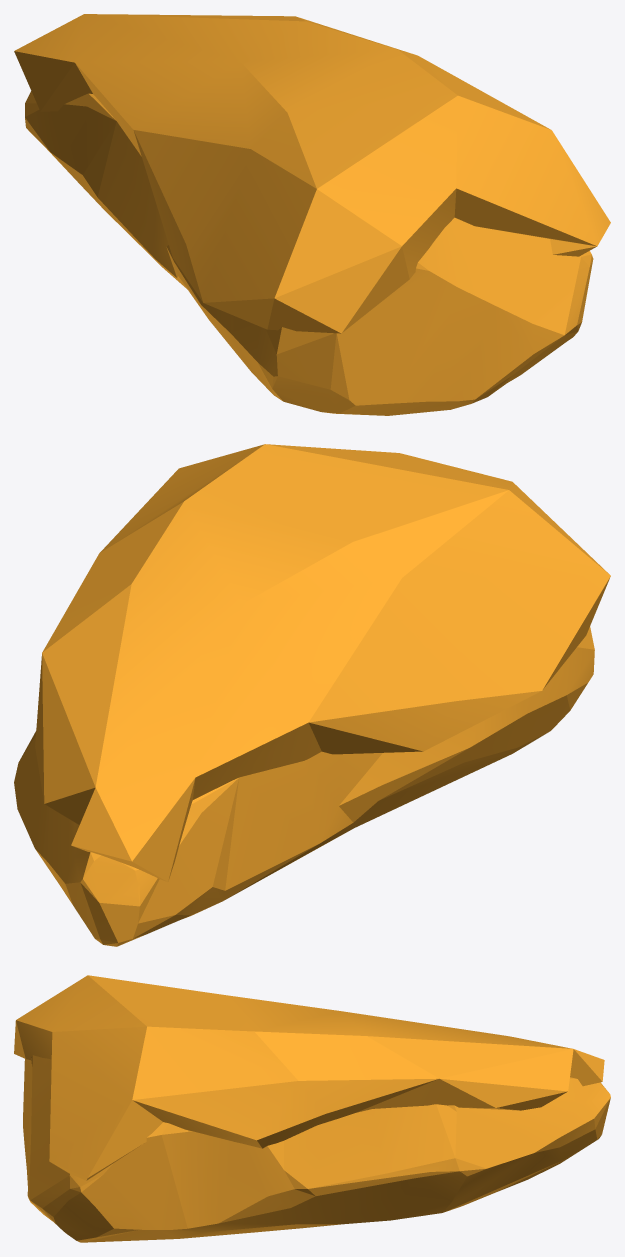
Rendered from SM_Menhir_A_Horizontal_Snow.fbx.
The picture shows the model from 3 angles, top to bottom: view 1: azimuth 30°, elevation 25°; view 2: azimuth 150°, elevation 25°; view 3: azimuth 270°, elevation 25°; orthographic projection. The views are drawn at different scales.
Visible parts, largest first — view 1: menhir-a-horizontal-snow; view 2: menhir-a-horizontal-snow; view 3: menhir-a-horizontal-snow.
Part boxes in pixels (x1=…): menhir-a-horizontal-snow: x1=14, y1=14, x2=610, y2=415; menhir-a-horizontal-snow: x1=14, y1=444, x2=610, y2=946; menhir-a-horizontal-snow: x1=14, y1=975, x2=610, y2=1242.
Size of the model in its own units: 3.01 by 2.11 by 5.23.
